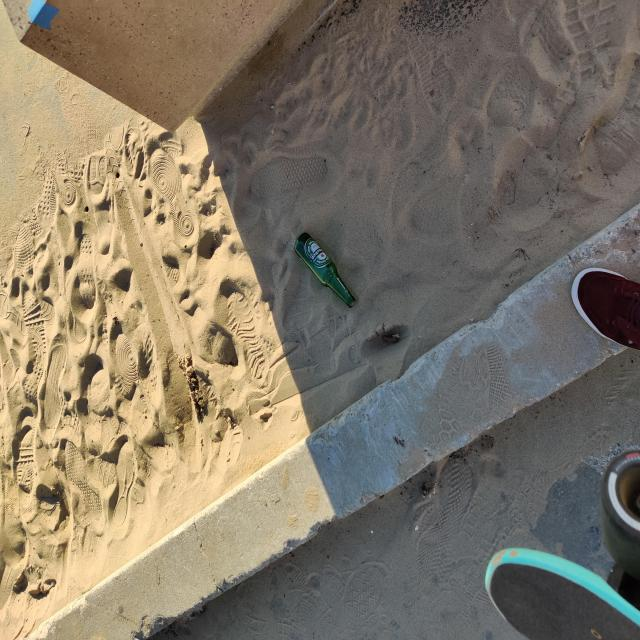litter: (292, 228, 359, 308)
